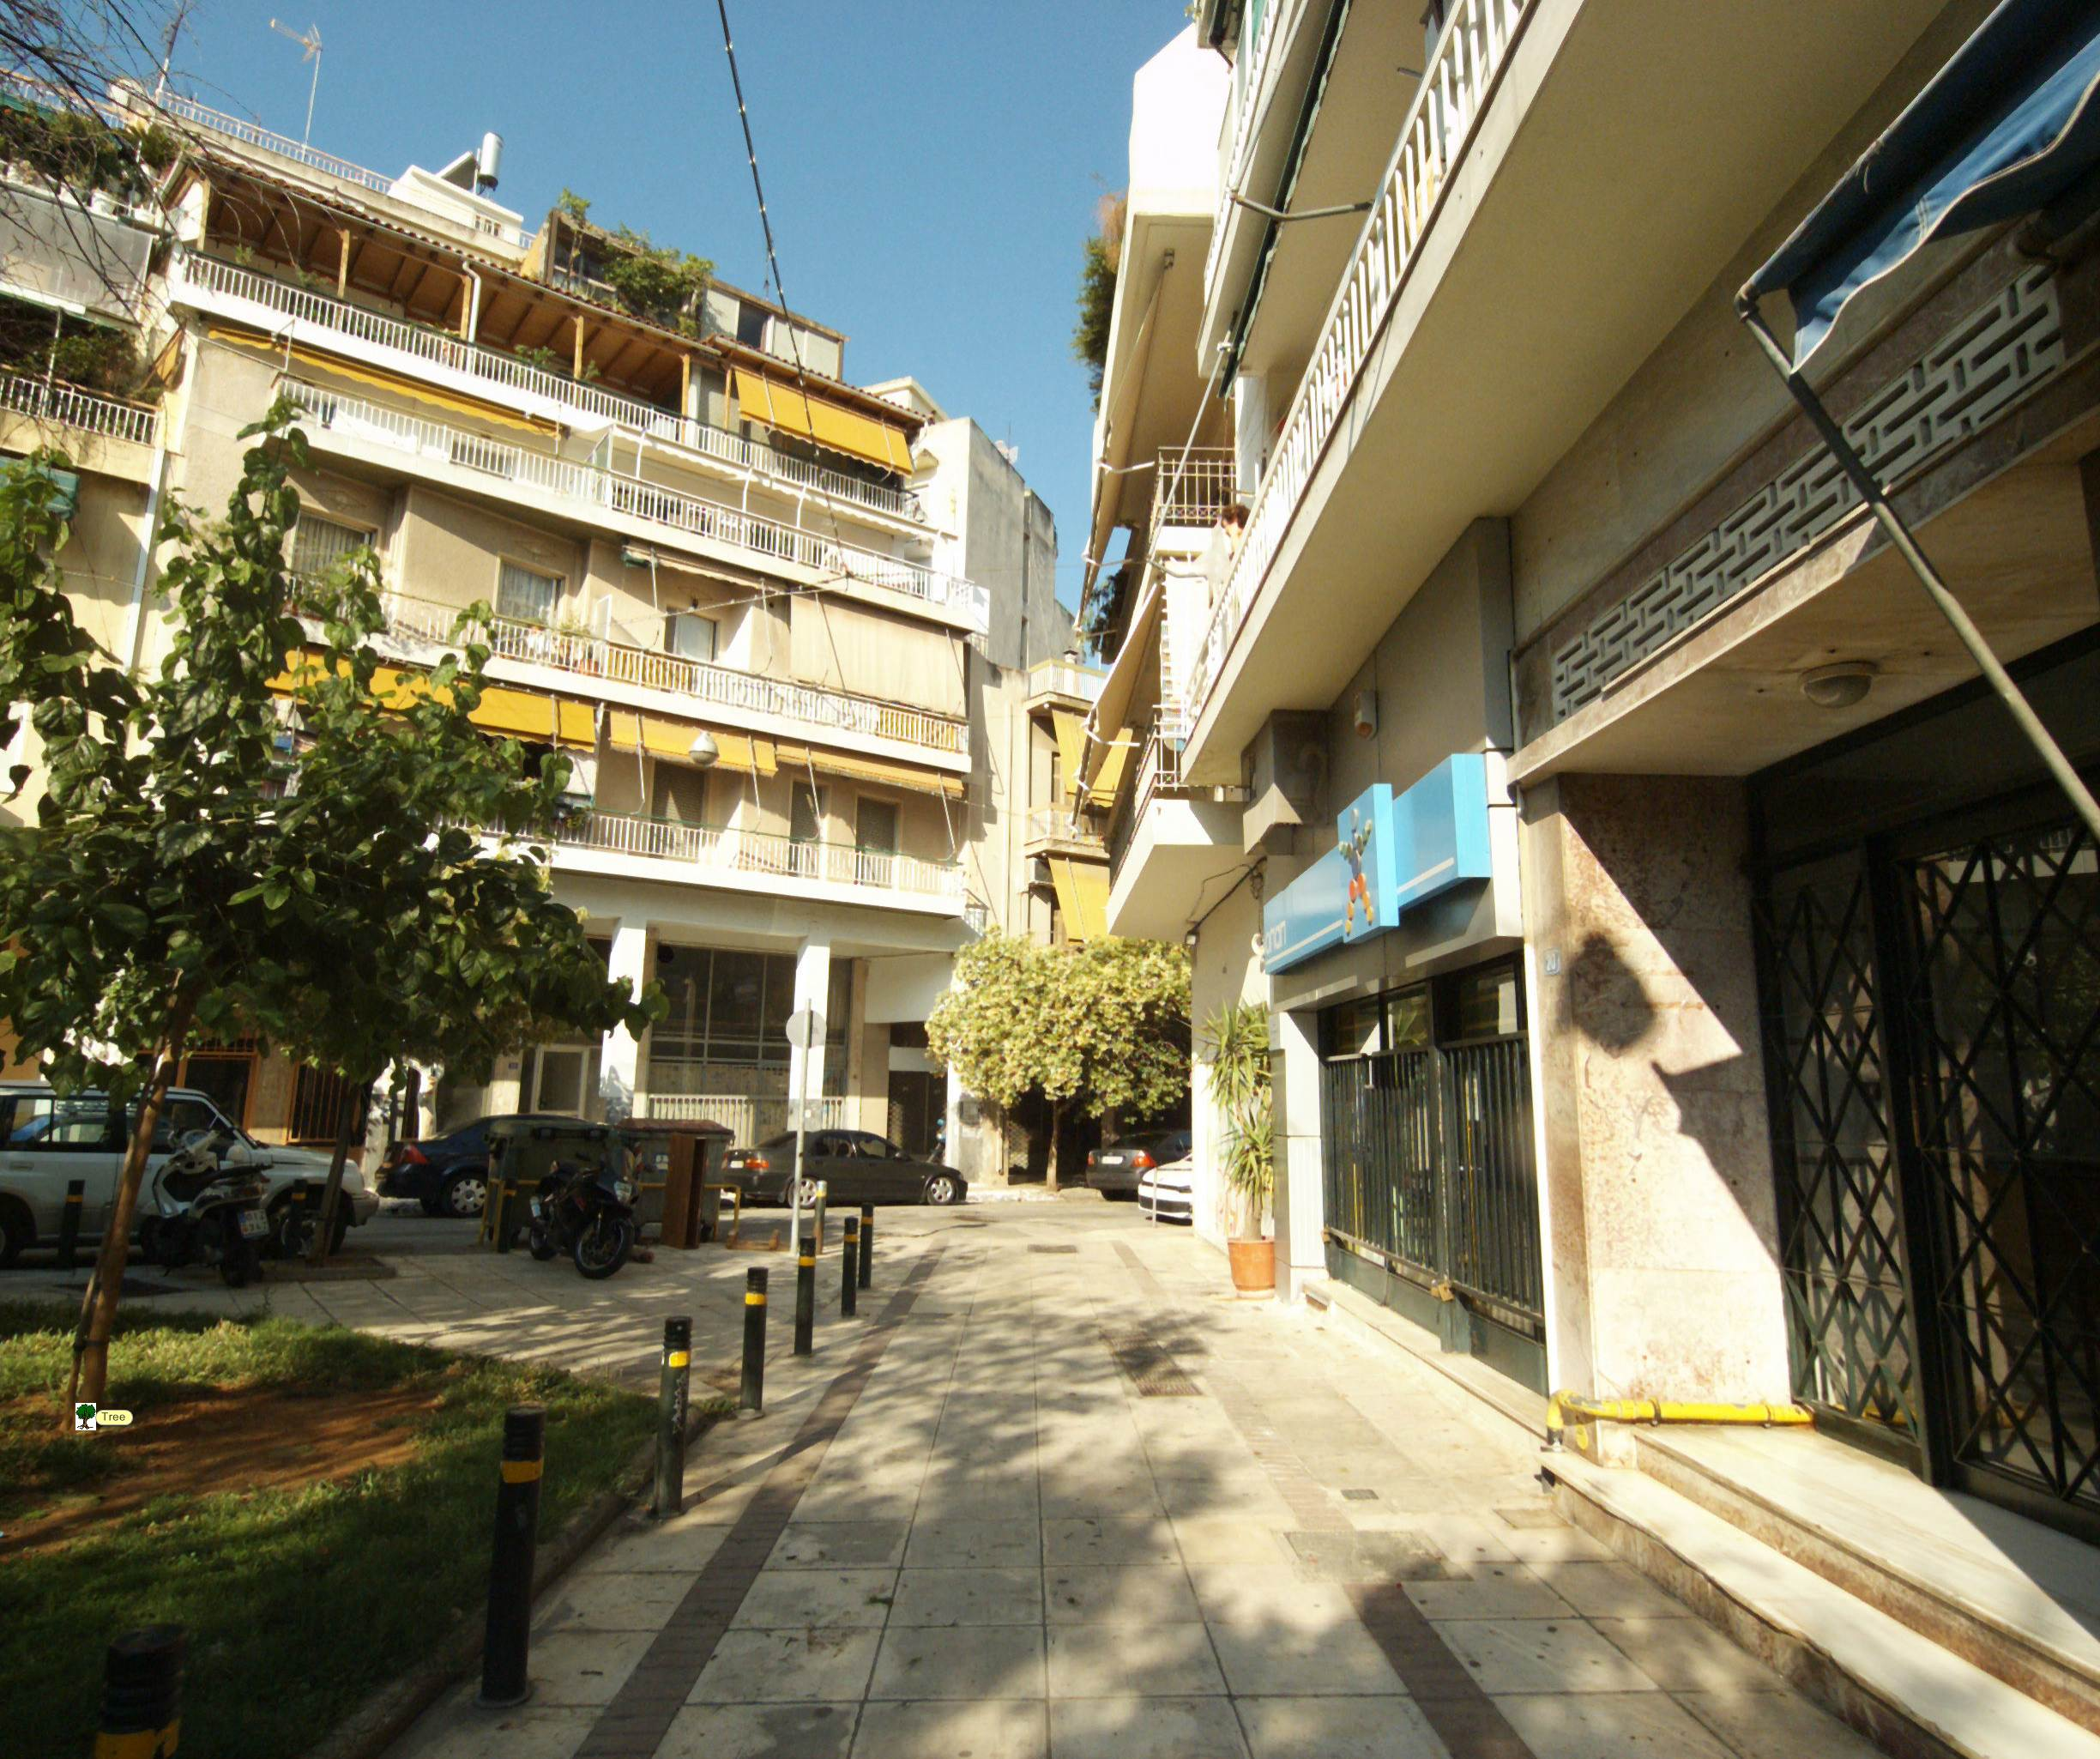tree: (37, 380, 631, 1455)
